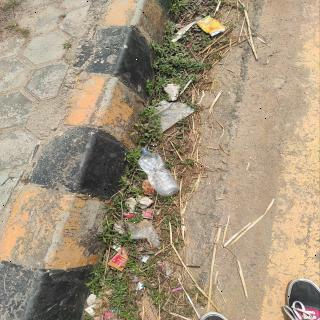Plastic-bottle: (136, 145, 185, 201)
